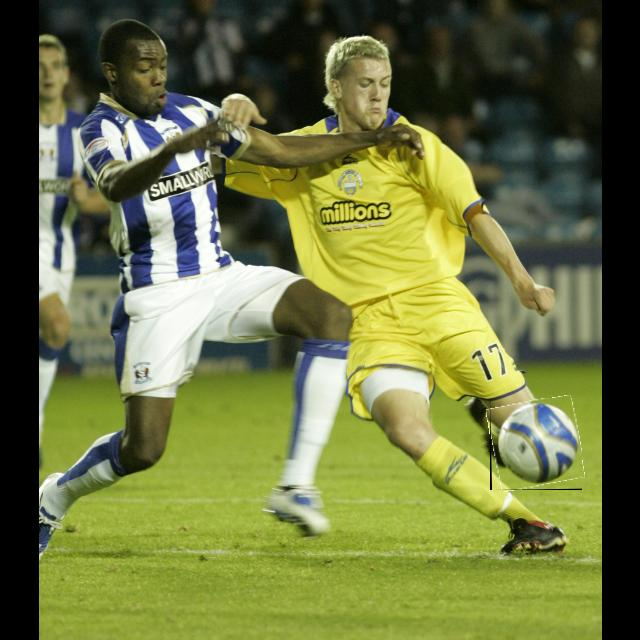Football: (490, 398, 582, 490)
